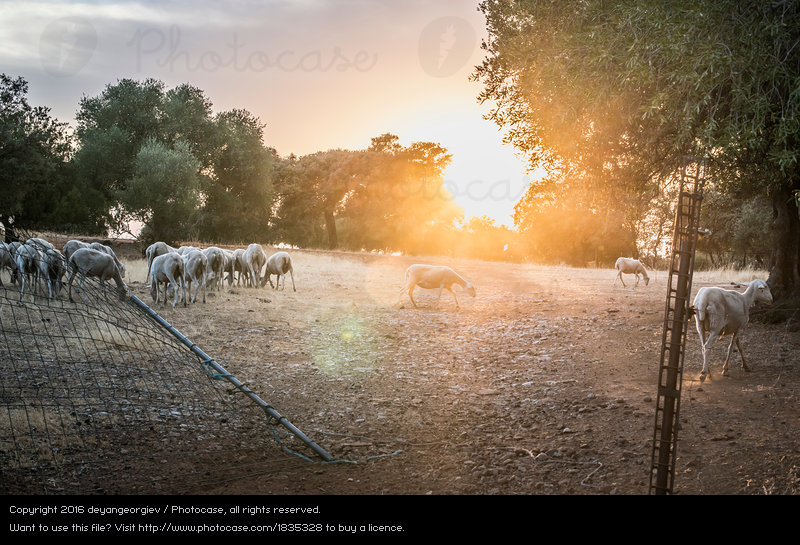sheep: (690, 277, 777, 388), (65, 246, 130, 310), (406, 263, 477, 313), (145, 251, 188, 310), (260, 250, 298, 293), (612, 256, 653, 293)
